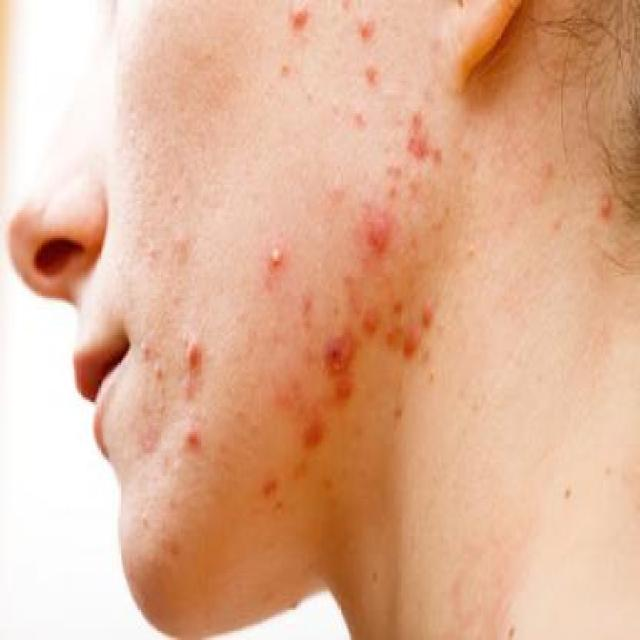dark spot: (408, 97, 450, 173), (382, 317, 422, 365), (296, 407, 336, 455), (329, 374, 365, 414), (359, 298, 383, 342), (386, 390, 412, 428), (415, 293, 443, 326), (296, 289, 322, 323), (392, 289, 416, 319)
papules: (358, 201, 400, 256), (286, 0, 320, 25), (185, 344, 208, 377), (356, 9, 376, 46), (180, 425, 208, 451), (594, 190, 617, 220), (360, 53, 380, 86)
pustules: (258, 238, 284, 273)
whiteheads: (275, 58, 294, 78), (300, 81, 315, 104), (329, 92, 343, 116), (153, 360, 170, 379), (140, 508, 152, 532)
